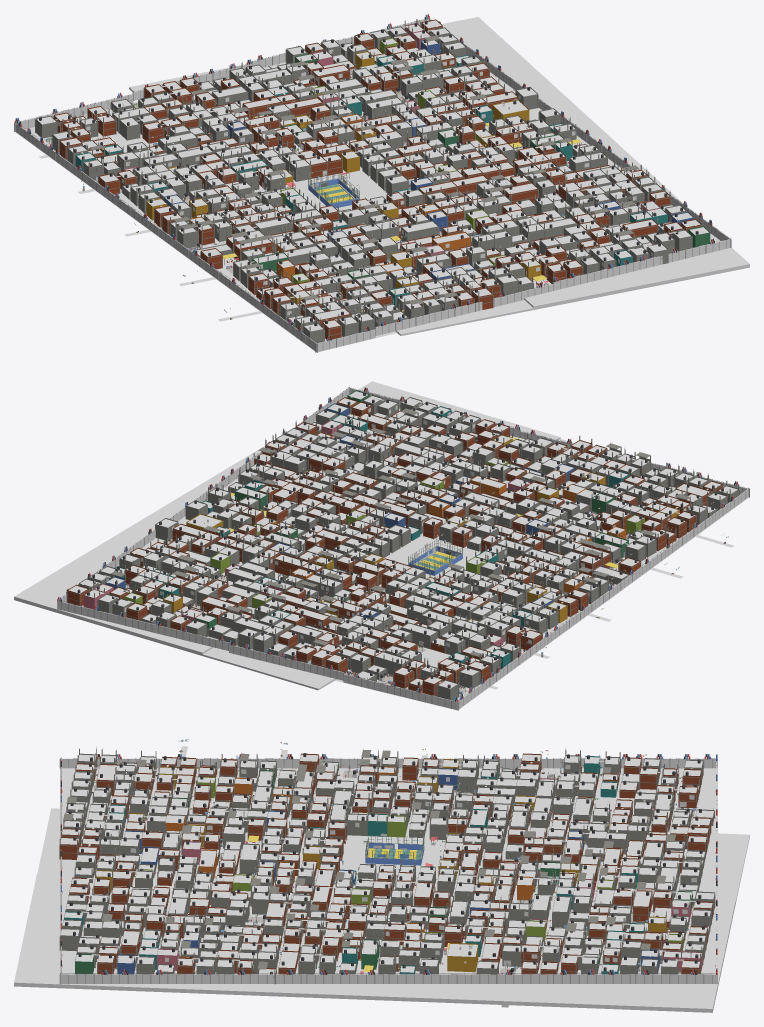
The model's file is la_gotera_favela.glb.
The picture shows the model from 3 angles, top to bottom: view 1: azimuth 30°, elevation 25°; view 2: azimuth 150°, elevation 25°; view 3: azimuth 270°, elevation 25°; orthographic projection. The views are drawn at different scales.
Parts seen in each view (by area): view 1: Banda_2_Terraza, Favela_1_1, Favela_2_1, Favela_3_4, Favela_1_4, Favela_3_3, Favela_3_2, Favela_2_4, Favela_3_1, Favela_2_2, Favela_2_3, Favela_1_2 (+30 smaller); view 2: Banda_2_Terraza, Favela_1_1, Favela_2_1, Favela_2_3, Favela_3_4, Favela_3_3, Favela_2_4, Favela_1_3, Favela_1_4, Favela_3_1, Favela_3_0, Favela_2_0 (+30 smaller); view 3: Banda_2_Terraza, Favela_1_1, Favela_3_3, Favela_2_4, Favela_3_4, Favela_1_2, Favela_3_2, Favela_3_1, Banda_1_Terraza, Favela_1_3, Favela_1_4, Favela_2_1 (+34 smaller).
Part boxes in pixels (x1,y1,x2,y2): Banda_2_Terraza: [270, 17, 749, 306]; Favela_1_1: [142, 103, 283, 168]; Favela_2_1: [243, 78, 402, 150]; Favela_3_4: [488, 188, 630, 255]; Favela_1_4: [283, 234, 420, 299]; Favela_3_3: [438, 146, 581, 214]; Favela_3_2: [390, 102, 529, 170]; Favela_2_4: [396, 209, 525, 275]; Favela_3_1: [350, 63, 487, 121]; Favela_2_2: [298, 122, 435, 190]; Favela_2_3: [352, 167, 478, 240]; Favela_1_2: [190, 141, 311, 211]; Banda_2_Terraza: [14, 381, 559, 652]; Favela_1_1: [322, 584, 468, 651]; Favela_2_1: [221, 550, 369, 628]; Favela_2_3: [359, 483, 506, 547]; Favela_3_4: [334, 417, 474, 484]; Favela_3_3: [272, 451, 417, 523]; Favela_2_4: [420, 446, 566, 513]; Favela_1_3: [467, 511, 591, 582]; Favela_1_4: [516, 478, 645, 542]; Favela_3_1: [155, 525, 280, 598]; Favela_3_0: [97, 564, 228, 631]; Favela_2_0: [185, 594, 319, 656]; Banda_2_Terraza: [14, 873, 735, 1008]; Favela_1_1: [505, 791, 632, 862]; Favela_3_3: [241, 878, 370, 952]; Favela_2_4: [135, 824, 259, 893]; Favela_3_4: [123, 873, 250, 947]; Favela_1_2: [387, 786, 512, 856]; Favela_3_2: [362, 882, 490, 956]; Favela_3_1: [484, 894, 610, 962]; Banda_1_Terraza: [37, 808, 749, 901]; Favela_1_3: [266, 781, 391, 850]; Favela_1_4: [145, 779, 272, 848]; Favela_2_1: [493, 845, 621, 910].
Size of what is drawn, in the model's own units: 223 by 17.65 by 260.
